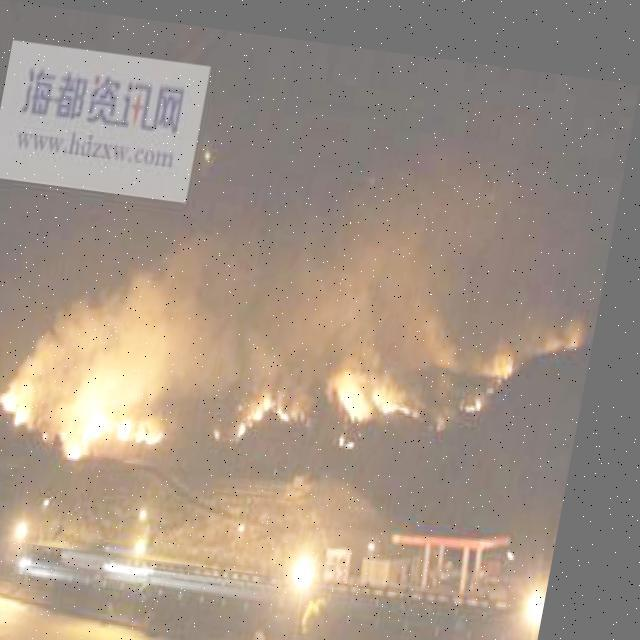Fire: (70, 376, 188, 463), (333, 346, 438, 413), (246, 381, 318, 432), (2, 372, 54, 432), (491, 329, 530, 366)
